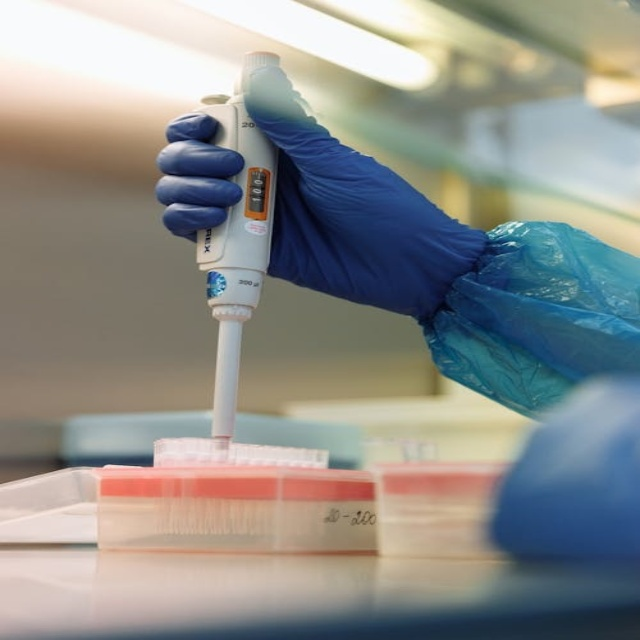Guantes: (154, 43, 502, 324)
